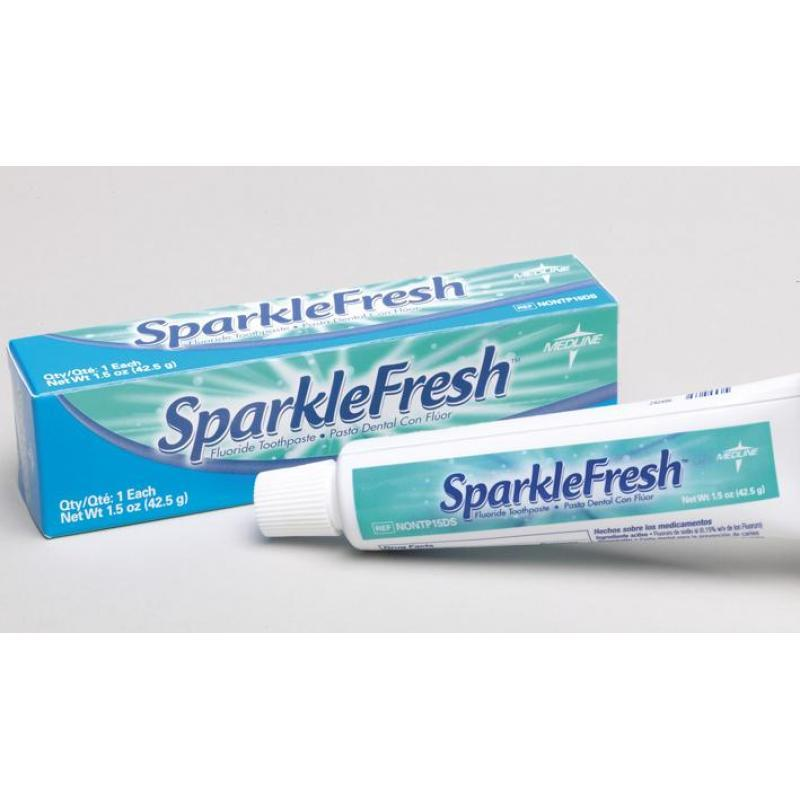toothpaste: (234, 399, 800, 568)
